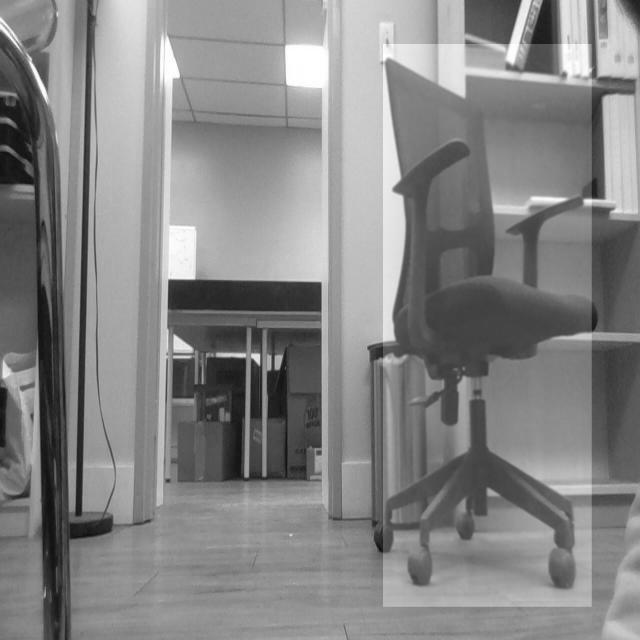chair: (377, 49, 607, 594)
light: (281, 37, 350, 108), (142, 33, 197, 84)
table: (165, 269, 336, 489)
